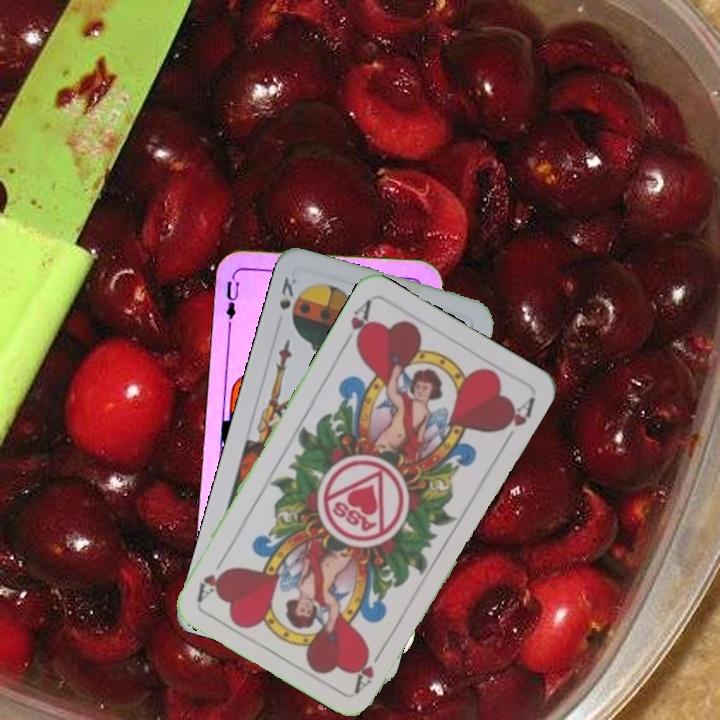EU: (221, 268, 242, 327)
HA: (350, 641, 388, 695), (338, 296, 374, 351)
SK: (275, 273, 300, 313)
